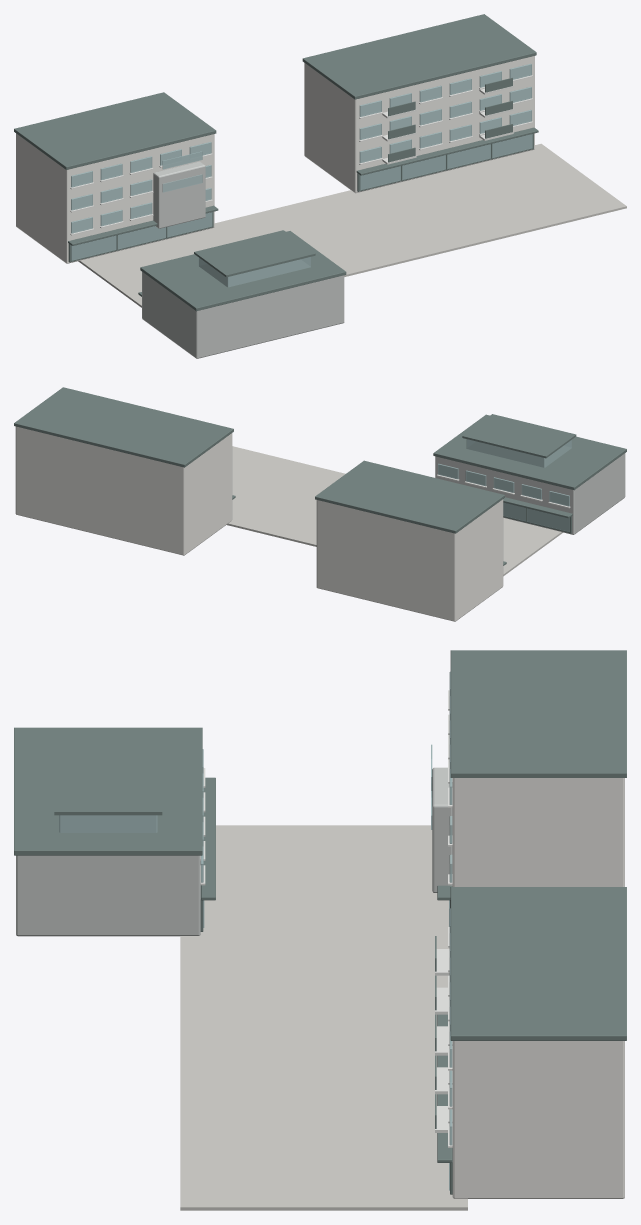
Rendered from xingfuli-center-identity.glb.
3 views of the same model, one above another, from view 1: azimuth 30°, elevation 25°; view 2: azimuth 150°, elevation 25°; view 3: azimuth 270°, elevation 25° (orthographic). The views are drawn at different scales.
Visible parts, largest first — view 1: xingfuli-center-identity; view 2: xingfuli-center-identity; view 3: xingfuli-center-identity.
Part boxes in pixels (bbox=[...]): xingfuli-center-identity: bbox=[14, 14, 626, 358]; xingfuli-center-identity: bbox=[14, 387, 626, 621]; xingfuli-center-identity: bbox=[14, 650, 626, 1210].
Size of the model in its own units: 45.34 by 8.97 by 29.83.
